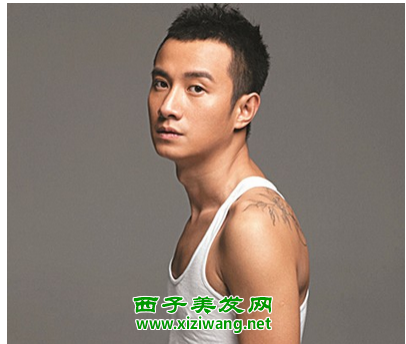no_mask: (142, 9, 272, 160)
